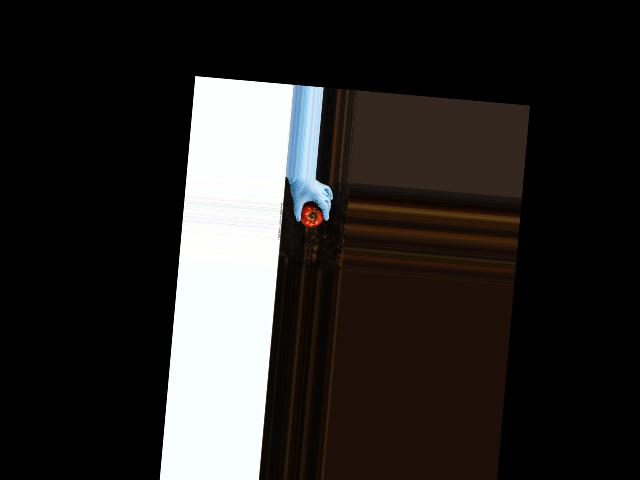tomato: (299, 201, 324, 228)
